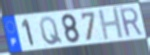1: (21, 18, 36, 48)
7: (80, 10, 98, 43)
8: (61, 13, 81, 45)
H: (97, 7, 126, 43)
Q: (38, 16, 64, 47)
R: (118, 6, 144, 39)
